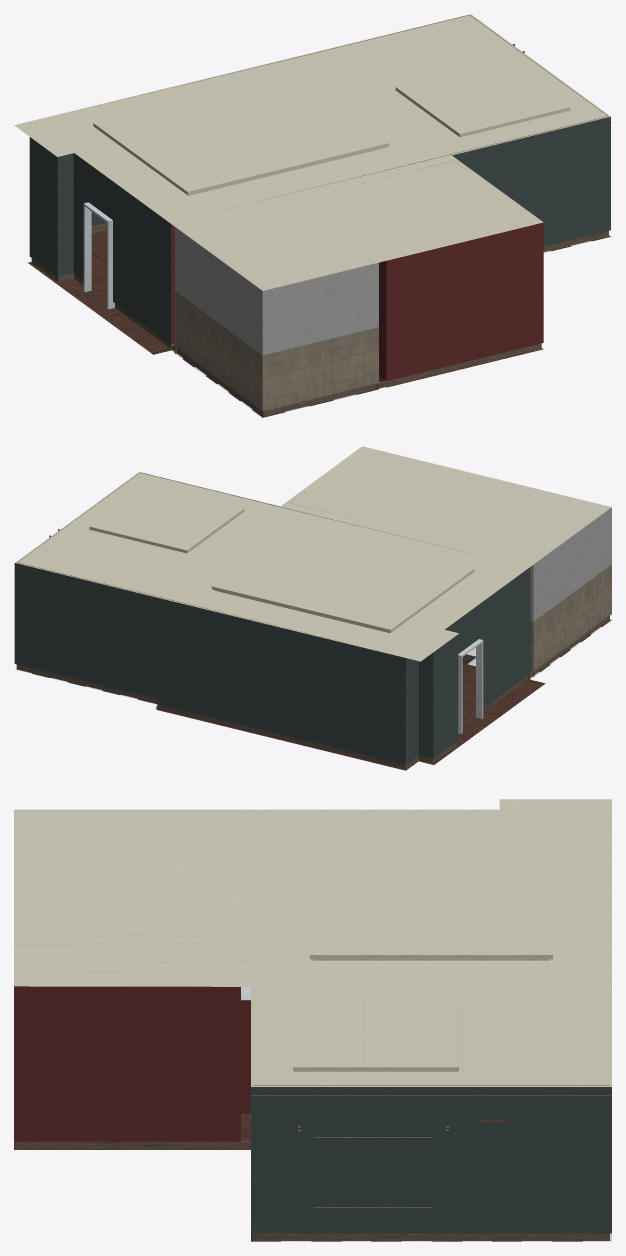
Rendered from ApartmentScene_no_doors.glb.
The picture shows the model from 3 angles, top to bottom: view 1: azimuth 30°, elevation 25°; view 2: azimuth 150°, elevation 25°; view 3: azimuth 270°, elevation 25°; orthographic projection. The views are drawn at different scales.
Parts seen in each view (by area): view 1: apartmentCeiling, apartmentWalls, apartmentBathroom, apartmentBedroom, apartmentFloor, apartmentBaseboard.001, apartmentDoorFrame.002, apartmentBaseboard.002; view 2: apartmentCeiling, apartmentWalls, apartmentBathroom, apartmentFloor, apartmentBaseboard.001, apartmentDoorFrame.002, apartmentBaseboard.002; view 3: apartmentCeiling, apartmentWalls, apartmentBedroom, apartmentBaseboard.001, apartmentlivingRoomWall, apartmentFloor, apartmentBaseboard.002.
Boxes of the visible parts, bbox=[...] form: apartmentCeiling: bbox=[14, 14, 610, 290]; apartmentWalls: bbox=[29, 116, 610, 343]; apartmentBathroom: bbox=[174, 227, 378, 411]; apartmentBedroom: bbox=[379, 222, 543, 381]; apartmentFloor: bbox=[28, 230, 610, 417]; apartmentBaseboard.001: bbox=[31, 223, 608, 416]; apartmentDoorFrame.002: bbox=[83, 202, 114, 309]; apartmentBaseboard.002: bbox=[109, 15, 611, 201]; apartmentCeiling: bbox=[15, 446, 611, 661]; apartmentWalls: bbox=[14, 563, 530, 764]; apartmentBathroom: bbox=[530, 507, 611, 671]; apartmentFloor: bbox=[15, 619, 611, 770]; apartmentBaseboard.001: bbox=[16, 616, 609, 769]; apartmentDoorFrame.002: bbox=[458, 639, 483, 733]; apartmentBaseboard.002: bbox=[14, 472, 451, 636]; apartmentCeiling: bbox=[14, 799, 611, 1086]; apartmentWalls: bbox=[251, 1087, 611, 1233]; apartmentBedroom: bbox=[14, 986, 240, 1141]; apartmentBaseboard.001: bbox=[16, 1141, 609, 1240]; apartmentlivingRoomWall: bbox=[241, 1000, 250, 1113]; apartmentFloor: bbox=[14, 1113, 611, 1241]; apartmentBaseboard.002: bbox=[251, 991, 611, 1095].
Bounding box in the file's own units: 11.48 × 3.15 × 10.03.
Materials: 11 (11 with a texture image).
